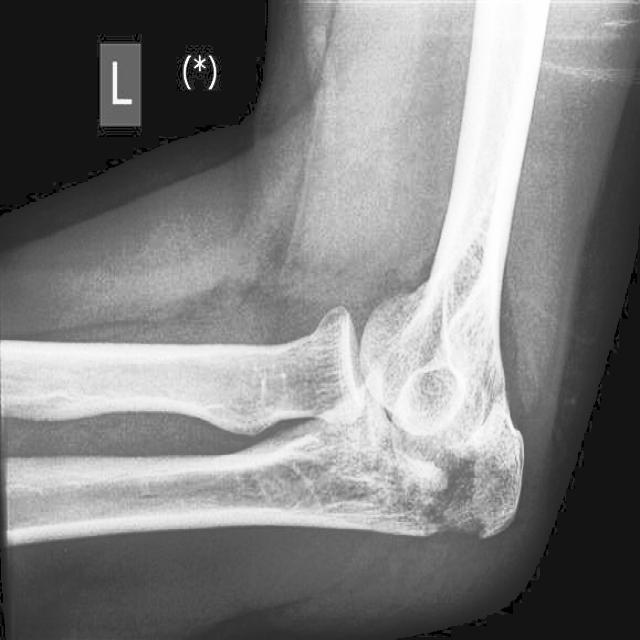Comminuted Fracture: (414, 404, 544, 550)
